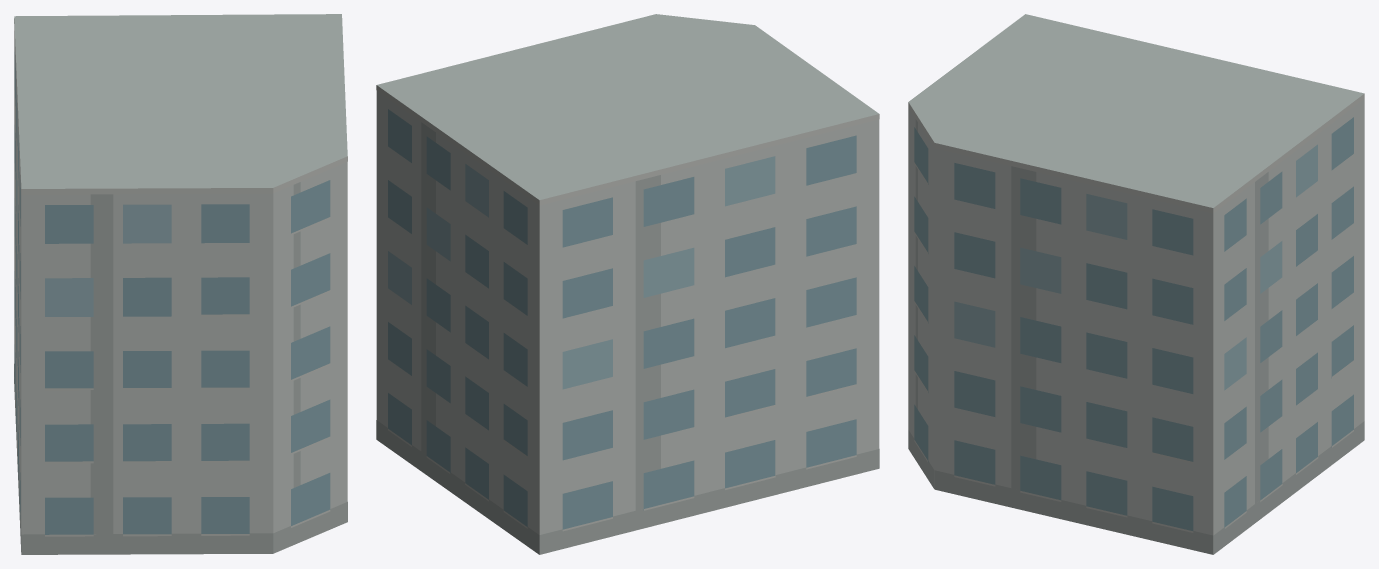
Rendered from survey-upis-32878407.glb.
The picture shows the model from 3 angles, left to right: view 1: azimuth 30°, elevation 25°; view 2: azimuth 150°, elevation 25°; view 3: azimuth 270°, elevation 25°; orthographic projection. The views are drawn at different scales.
Parts seen in each view (by area): view 1: survey-upis-32878407.tmp; view 2: survey-upis-32878407.tmp; view 3: survey-upis-32878407.tmp.
Boxes of the visible parts, x1,y1,x2,y2 form: survey-upis-32878407.tmp: [14, 14, 347, 554]; survey-upis-32878407.tmp: [376, 14, 879, 554]; survey-upis-32878407.tmp: [908, 14, 1364, 554].
Bounding box in the file's own units: 19.1 × 15.9 × 18.97.
